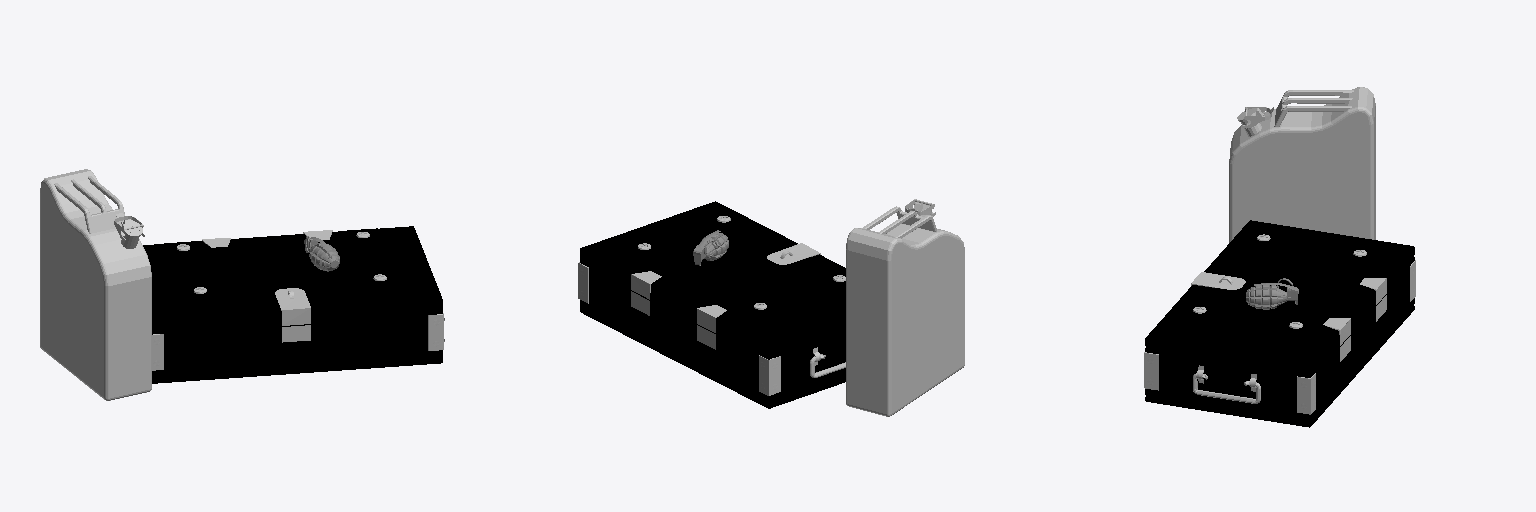
The model's file is supply.obj.
3 views of the same model, side by side, from view 1: azimuth 30°, elevation 25°; view 2: azimuth 150°, elevation 25°; view 3: azimuth 270°, elevation 25° (orthographic).
Visible parts, largest first — view 1: Crate, GasTank.004_Plane.004, Grenade_Mesh.005; view 2: Crate, GasTank.004_Plane.004, Grenade_Mesh.005; view 3: Crate, GasTank.004_Plane.004, Grenade_Mesh.005.
Boxes of the visible parts, <box> form: Crate: <box>143,226,444,383</box>; GasTank.004_Plane.004: <box>40,169,151,400</box>; Grenade_Mesh.005: <box>304,236,339,271</box>; Crate: <box>578,201,845,408</box>; GasTank.004_Plane.004: <box>846,199,964,416</box>; Grenade_Mesh.005: <box>693,230,728,265</box>; Crate: <box>1144,220,1415,427</box>; GasTank.004_Plane.004: <box>1229,87,1375,242</box>; Grenade_Mesh.005: <box>1246,278,1298,309</box>.
Size of the model in its own units: 2.35 by 1.13 by 1.59.